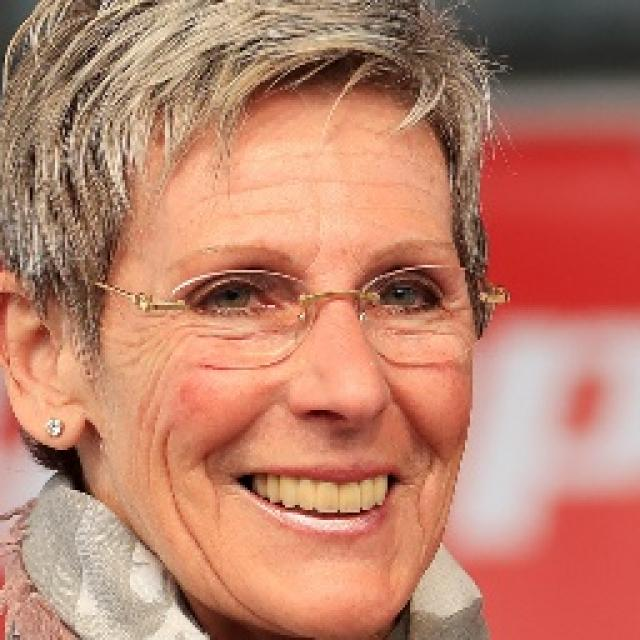earlobe: (0, 271, 89, 452)
